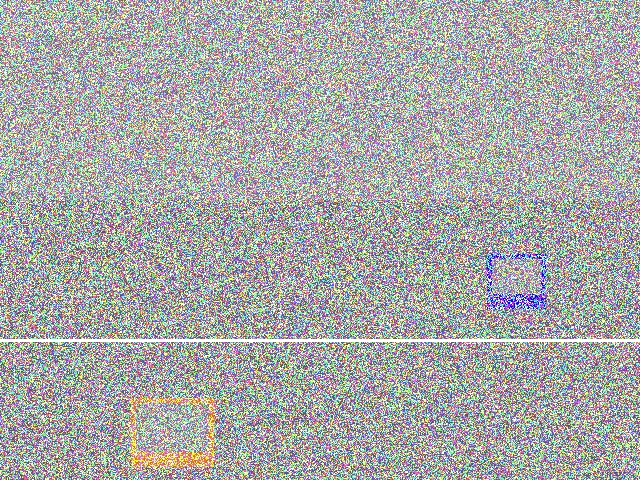car: (448, 308, 585, 391)
